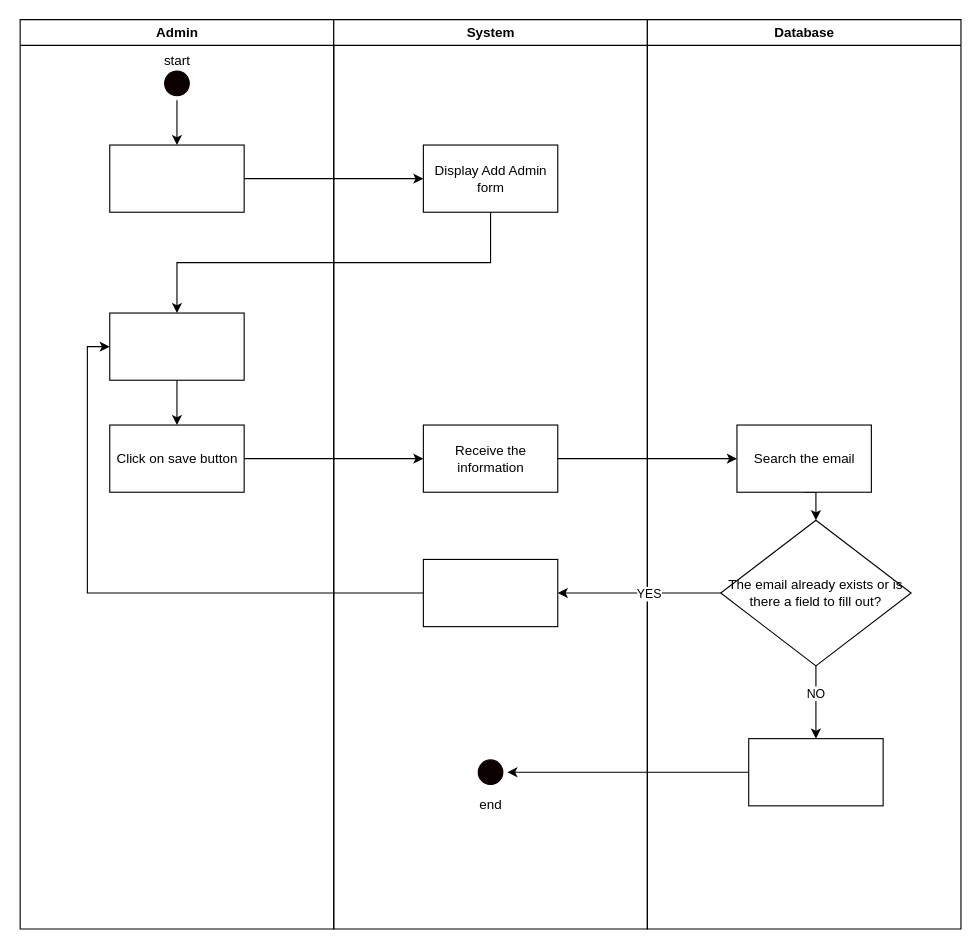
This 980x949 diagram has some shape labels left out. The shapes that lost their labels are listed below. From the top down, each one's centre as x and y in pixels, then its label:
At point 176,178: "click on Add Admin button".
At point 176,346: "Fill out the form".
At point 490,592: "Send a error".
At point 815,772: "Create new user in Admin table".
